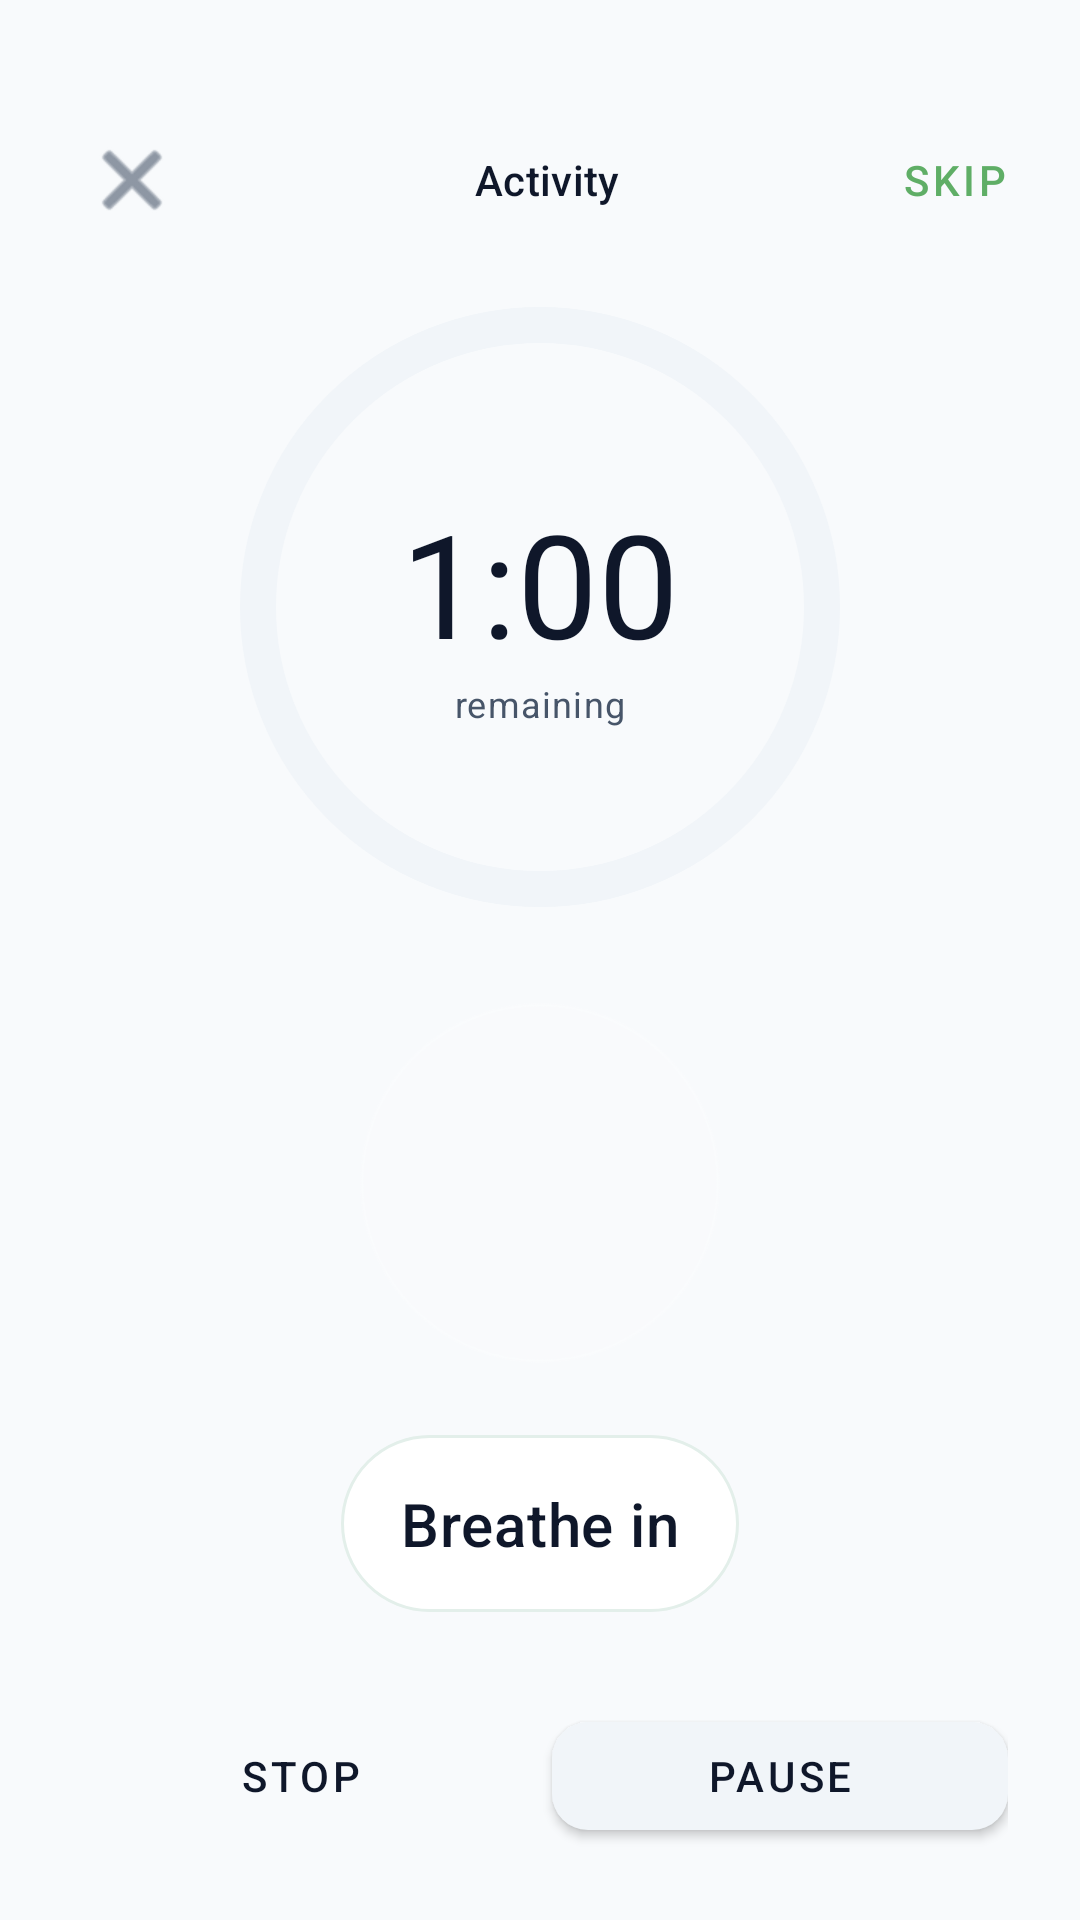

Icon bounding boxes for this 1080*1920 phone screenshot, format (x1, y1, x2, y2):
Close: (102, 150, 162, 210)
